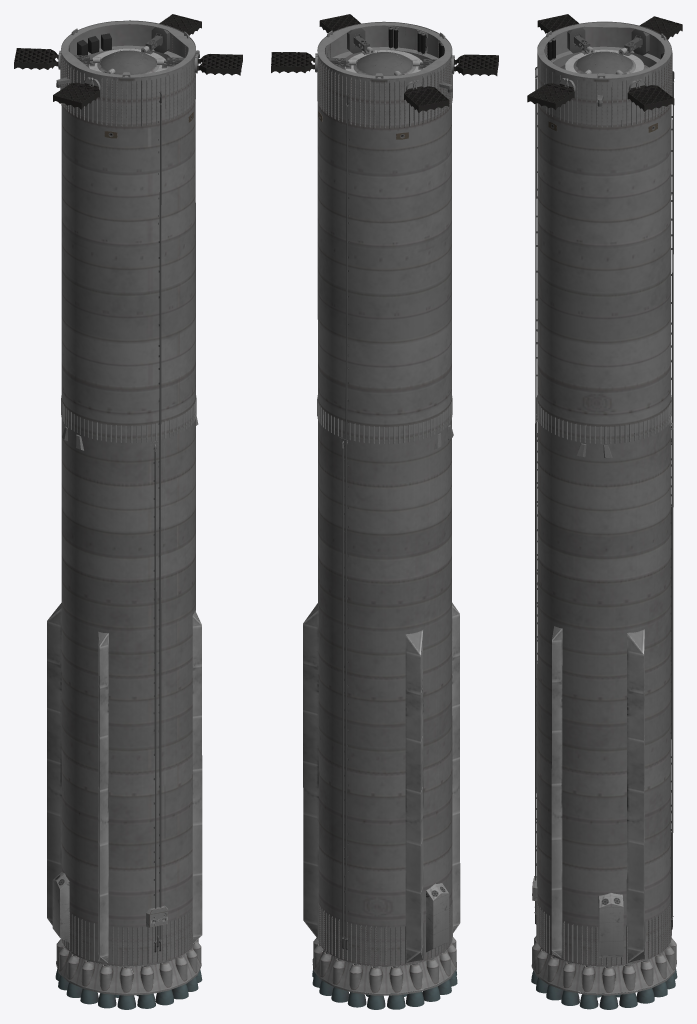
File: SuperHeavy.glb
3 views of the same model, side by side, from view 1: azimuth 30°, elevation 25°; view 2: azimuth 150°, elevation 25°; view 3: azimuth 270°, elevation 25° (orthographic).
Visible parts, largest first — view 1: object_0, object_1; view 2: object_0, object_1; view 3: object_0, object_1.
Part boxes in pixels (x1,y1,x2,y2): object_0: (14, 14, 242, 1009); object_1: (14, 14, 242, 995); object_0: (271, 14, 498, 1009); object_1: (271, 14, 498, 995); object_0: (528, 14, 681, 1009); object_1: (527, 14, 682, 997).
Size of the model in its own units: 1614 by 7688 by 1159.
Materials: 2 (2 with a texture image).
